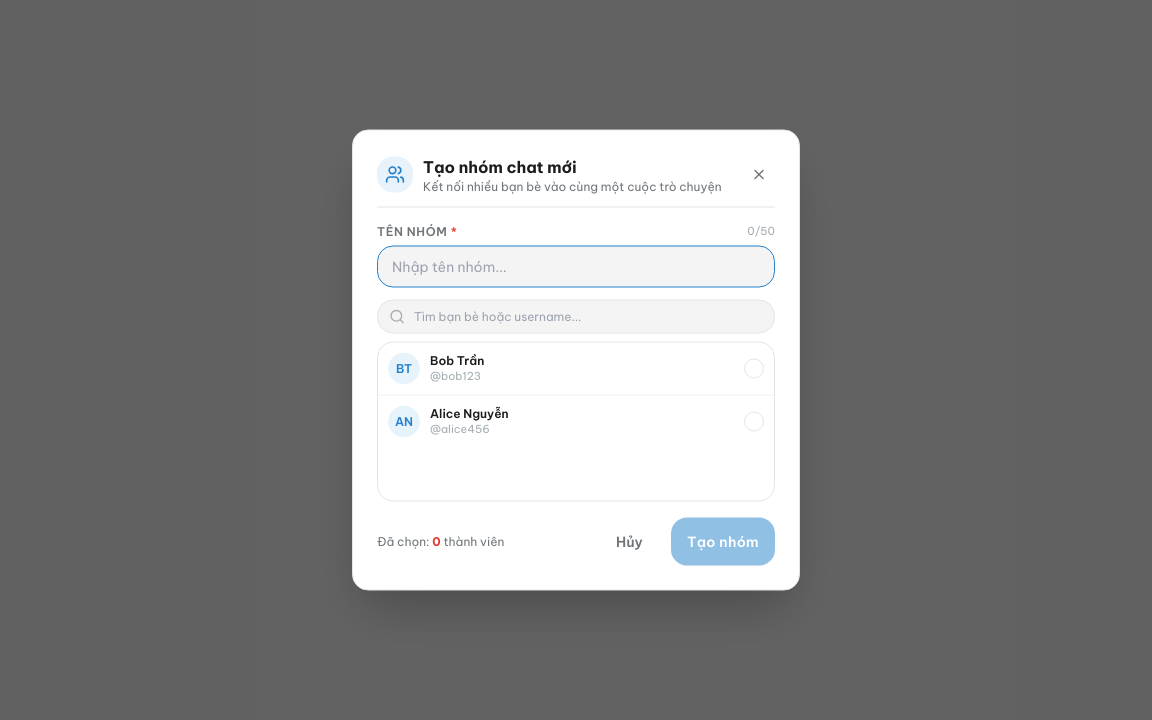
CreateGroupModal Component Tests › keeps submit button disabled until valid group name and at least 1 member selected
Expected: the button with test id "submit-create-group" is disabled, [671,518,775,566]
# Type group name
Type "Dự án ReChat" into the field with test id "group-name-input" at (576, 266), box [377,246,775,288]
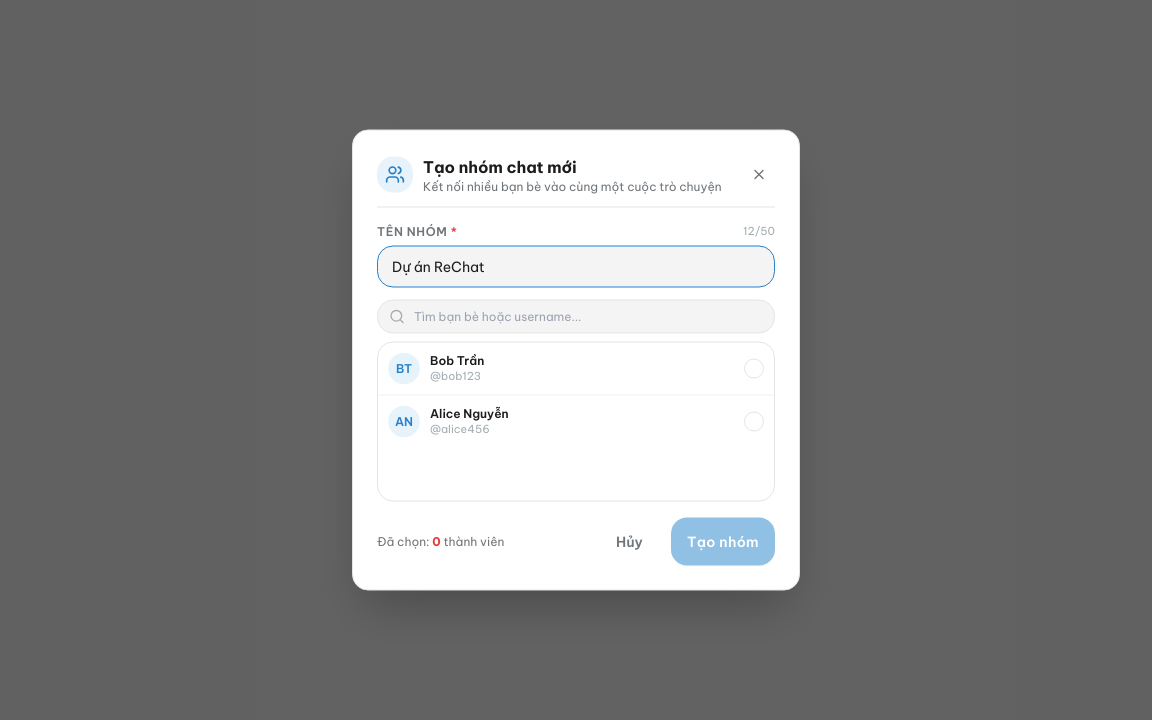
Expected: the button with test id "submit-create-group" is disabled, [671,518,775,566]
Click the element with test id "candidate-user-friend-1" at (404, 368), box [378,342,774,394]
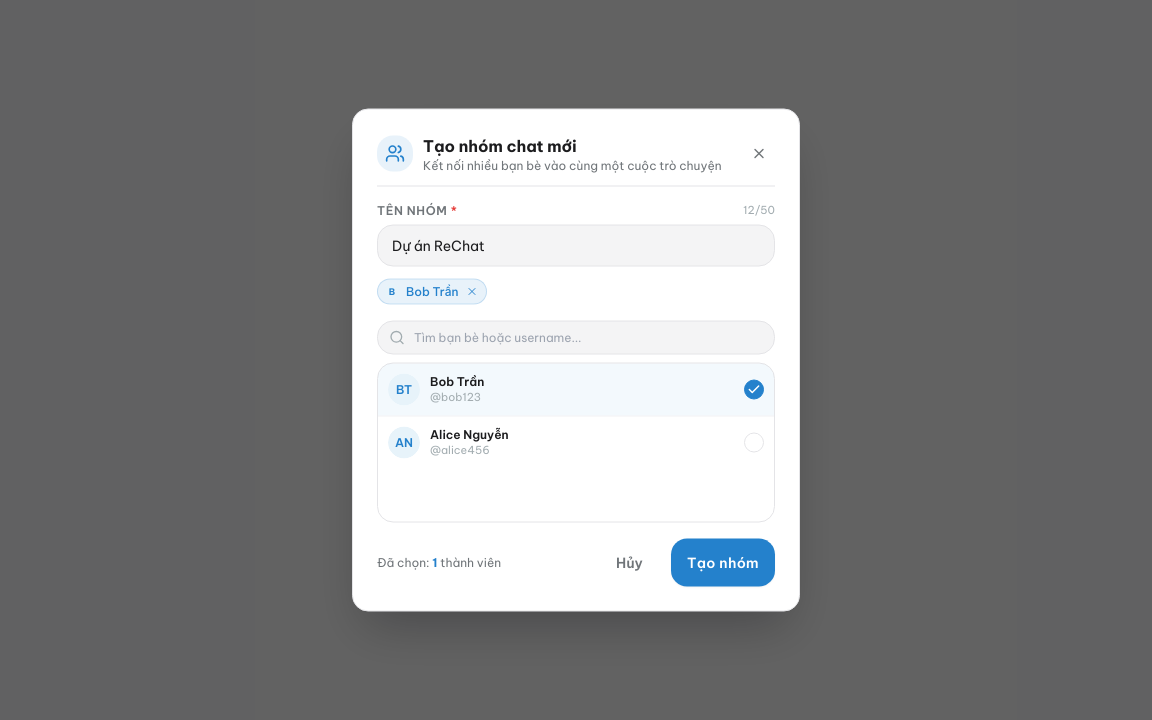
Now the button with test id "submit-create-group" is enabled, box [671,538,775,586]
